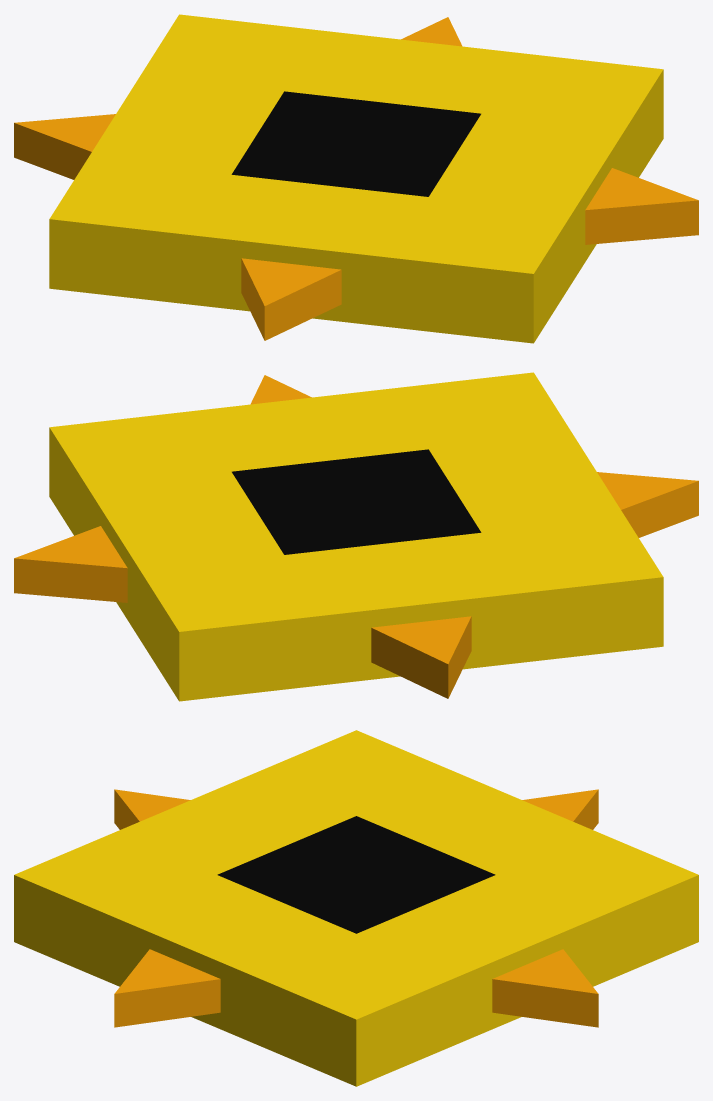
The model's file is Afinador_Puntero.fbx.
The picture shows the model from 3 angles, top to bottom: view 1: azimuth 30°, elevation 25°; view 2: azimuth 150°, elevation 25°; view 3: azimuth 270°, elevation 25°; orthographic projection. The views are drawn at different scales.
Parts seen in each view (by area): view 1: Puntero; view 2: Puntero; view 3: Puntero.
Boxes of the visible parts, box(x1,y1,x2,y2) form: Puntero: box(14, 14, 698, 343); Puntero: box(14, 372, 698, 701); Puntero: box(14, 730, 698, 1086).
Bounding box in the file's own units: 2.77 × 0.3 × 2.77.
